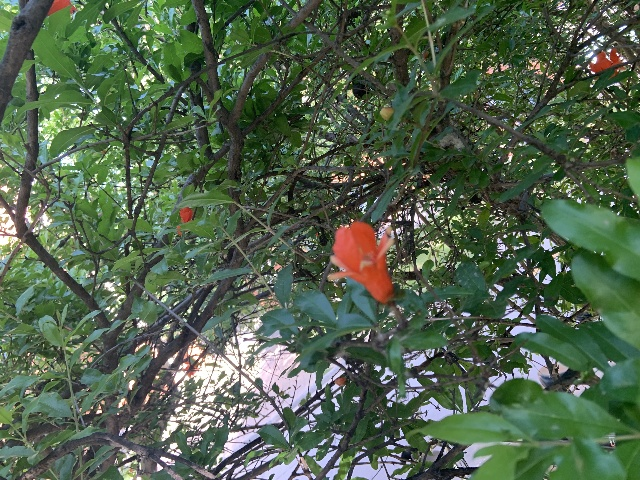bud: (333, 376, 346, 385)
flower: (328, 220, 395, 303), (589, 48, 624, 81), (176, 206, 193, 235)
